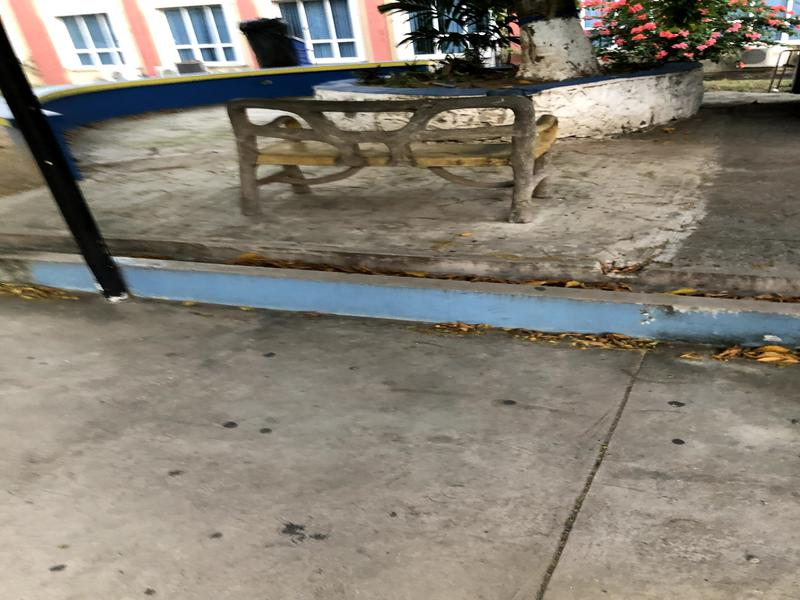18.0050864_-76.7496363_bench: (215, 86, 572, 244)
